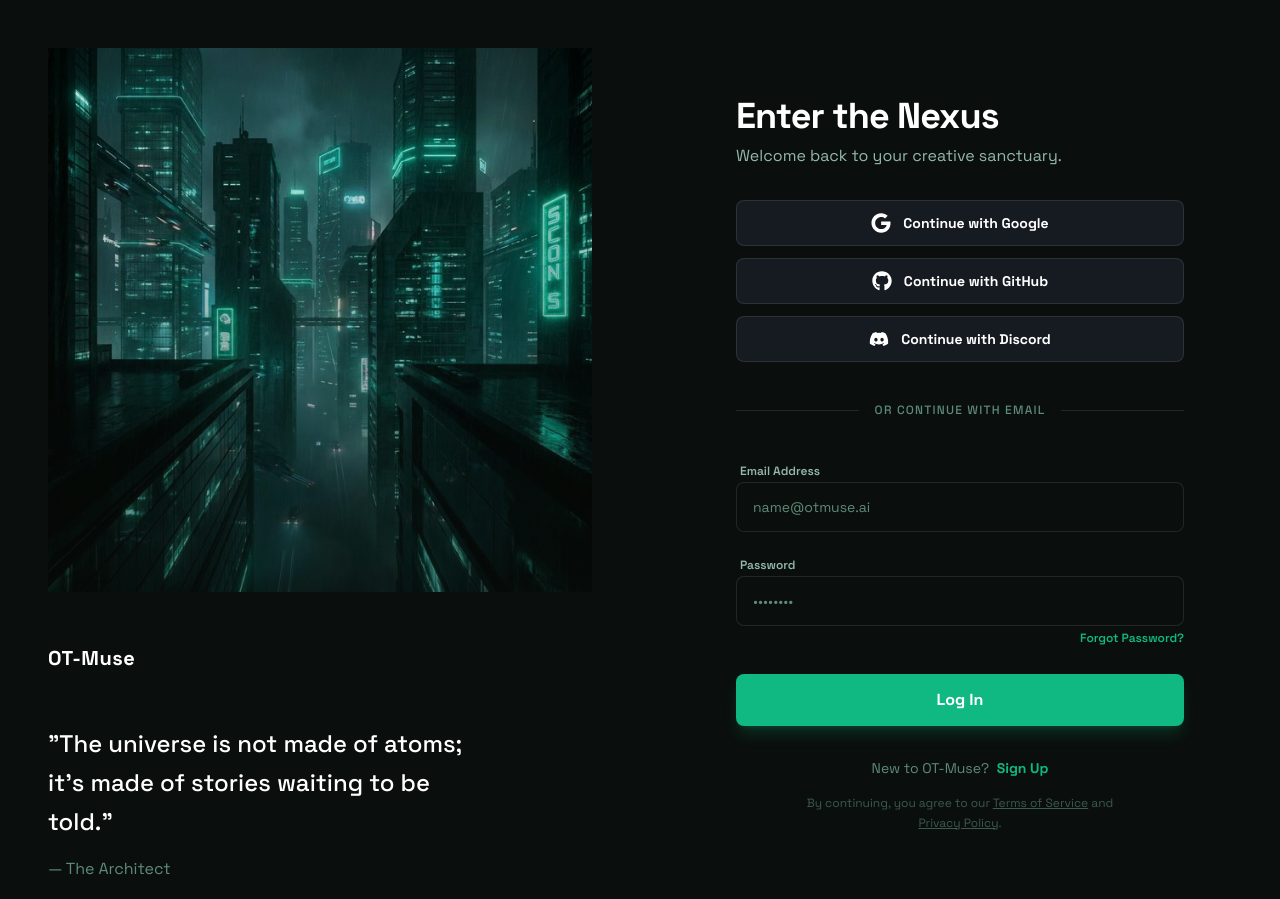
it: LoginPage › shows error when submitting with empty email
Step 1. Click the button "Log In" → (960, 700), box 736,674 -> 1184,726
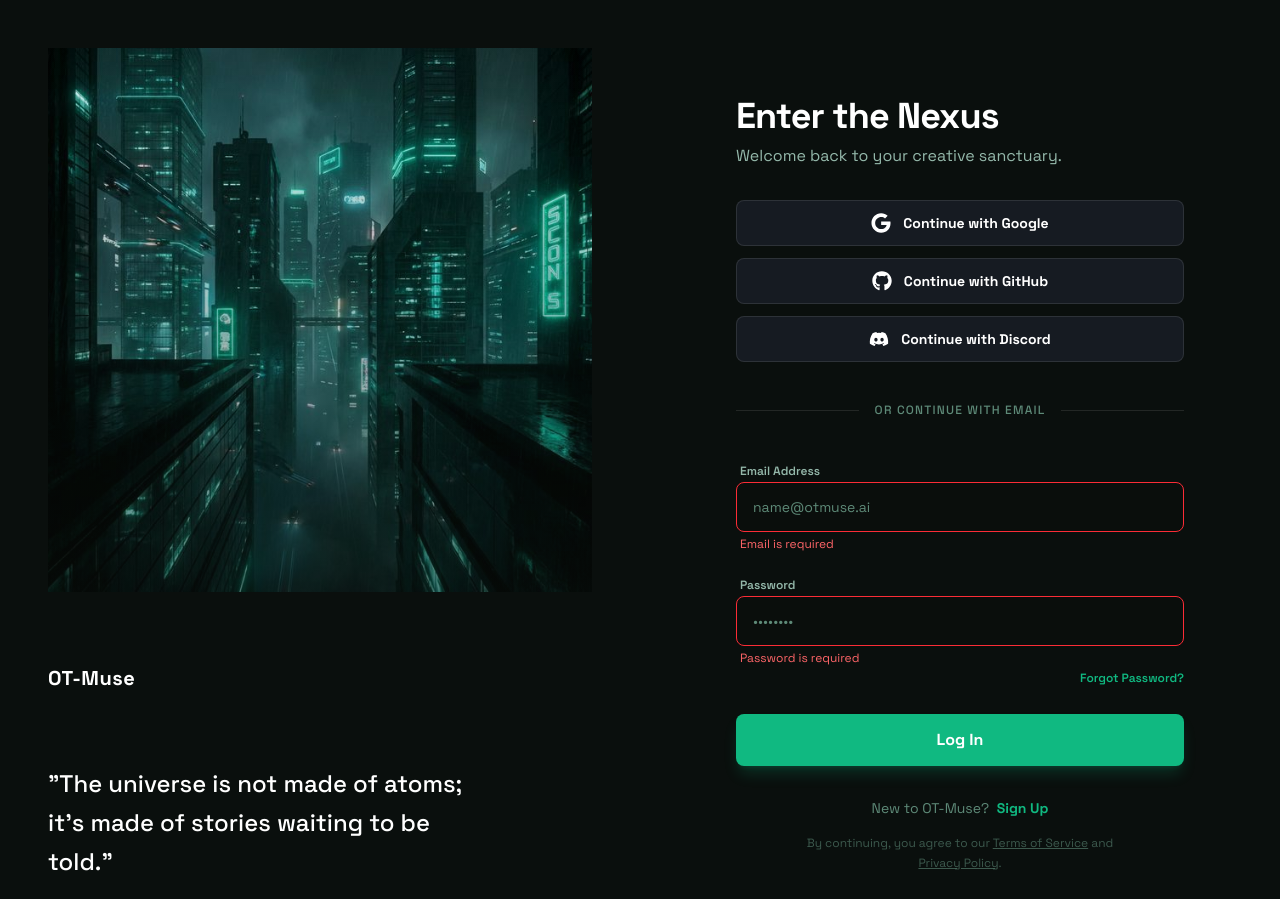
Expected: the text "Email is required" is shown, 740,536 -> 834,552
